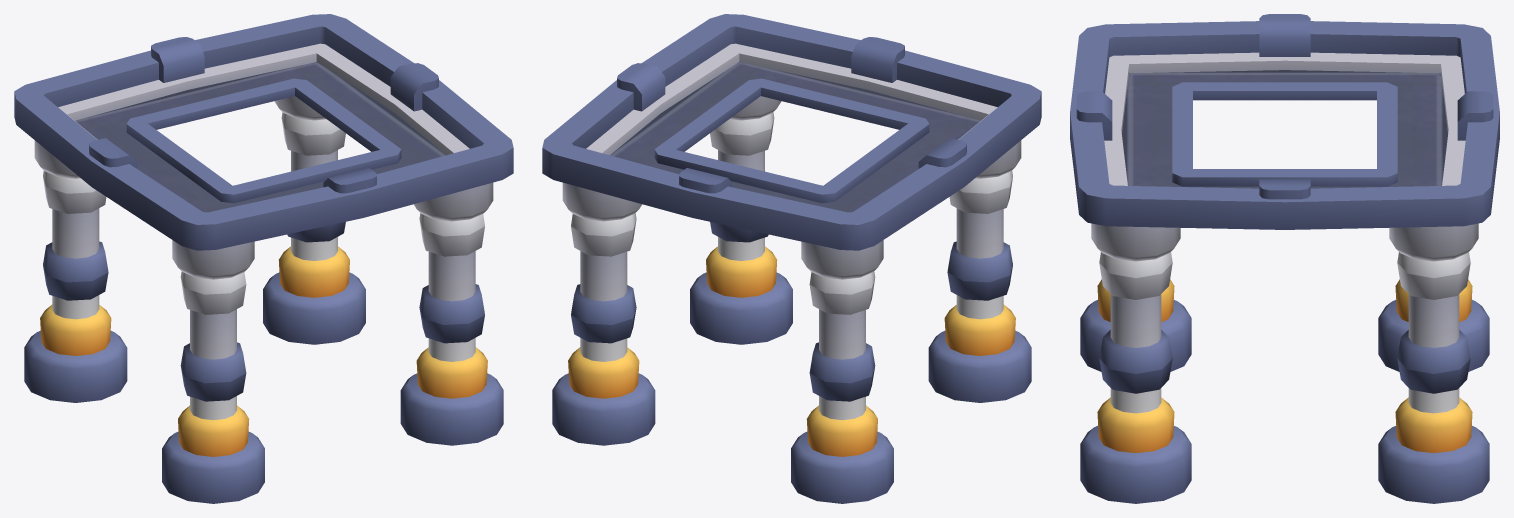
The model's file is kenney-space-modular-template-floor-layer-hole.glb.
3 renders of one model, left to right at view 1: azimuth 30°, elevation 25°; view 2: azimuth 150°, elevation 25°; view 3: azimuth 270°, elevation 25°, orthographic. The views are drawn at different scales.
Parts seen in each view (by area): view 1: template-floor-layer-hole; view 2: template-floor-layer-hole; view 3: template-floor-layer-hole.
Part boxes in pixels (box(x1,y1,x2,y2)): template-floor-layer-hole: box(14, 14, 513, 503); template-floor-layer-hole: box(542, 14, 1041, 503); template-floor-layer-hole: box(1070, 14, 1499, 503).
Size of the model in its own units: 4.2 by 3.4 by 4.2.
1 material, 1 textured.
